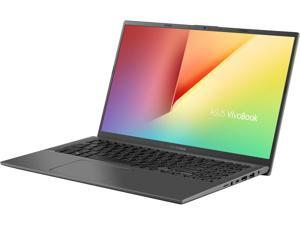Laptop: (2, 18, 300, 208)
